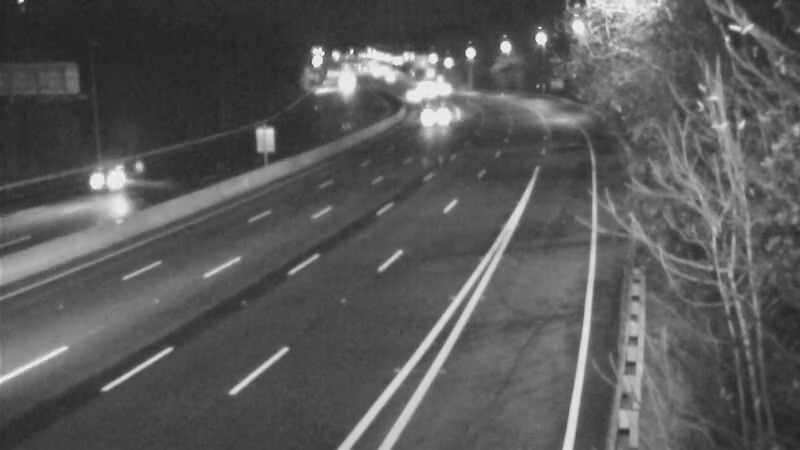vehicle: (64, 138, 144, 218), (382, 73, 432, 123), (410, 87, 460, 137)
